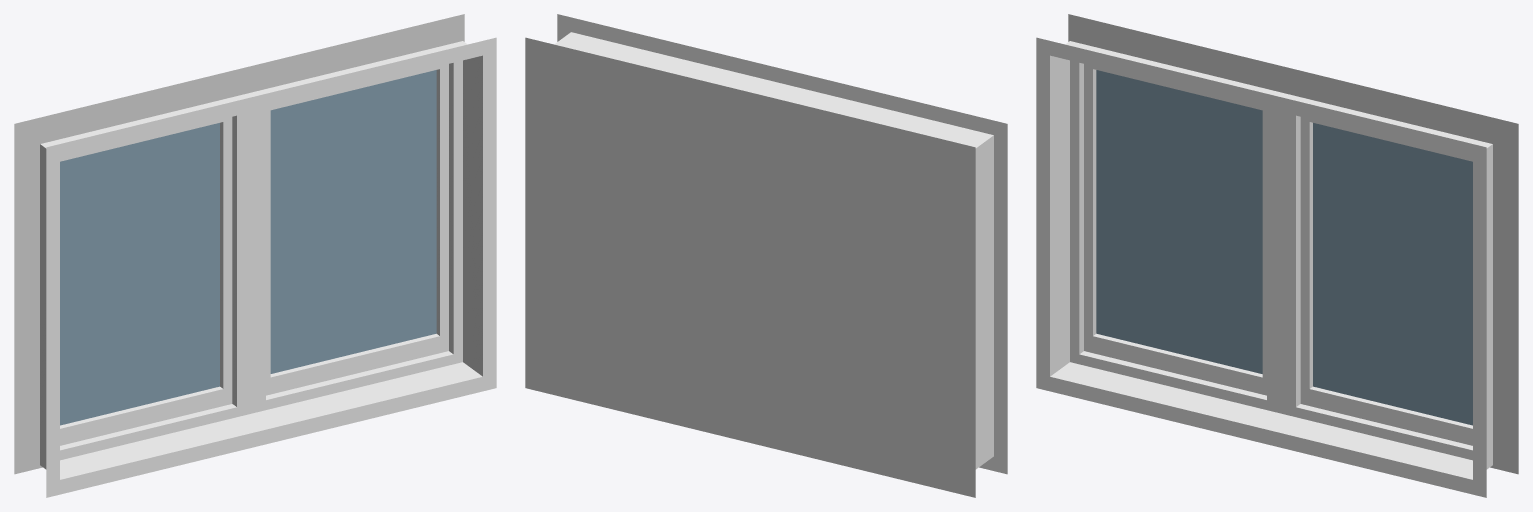
File: window-stairs-2p-i209a-2.fbx
The picture shows the model from 3 angles, left to right: view 1: azimuth 30°, elevation 25°; view 2: azimuth 150°, elevation 25°; view 3: azimuth 330°, elevation 25°; orthographic projection.
Parts seen in each view (by area): view 1: window-stairs-2p-i209a-2; view 2: window-stairs-2p-i209a-2; view 3: window-stairs-2p-i209a-2.
Part boxes in pixels (x1=…): window-stairs-2p-i209a-2: x1=14, y1=14, x2=496, y2=497; window-stairs-2p-i209a-2: x1=525, y1=14, x2=1007, y2=497; window-stairs-2p-i209a-2: x1=1036, y1=14, x2=1518, y2=497.
Size of the model in its own units: 142 by 106 by 17.56.
